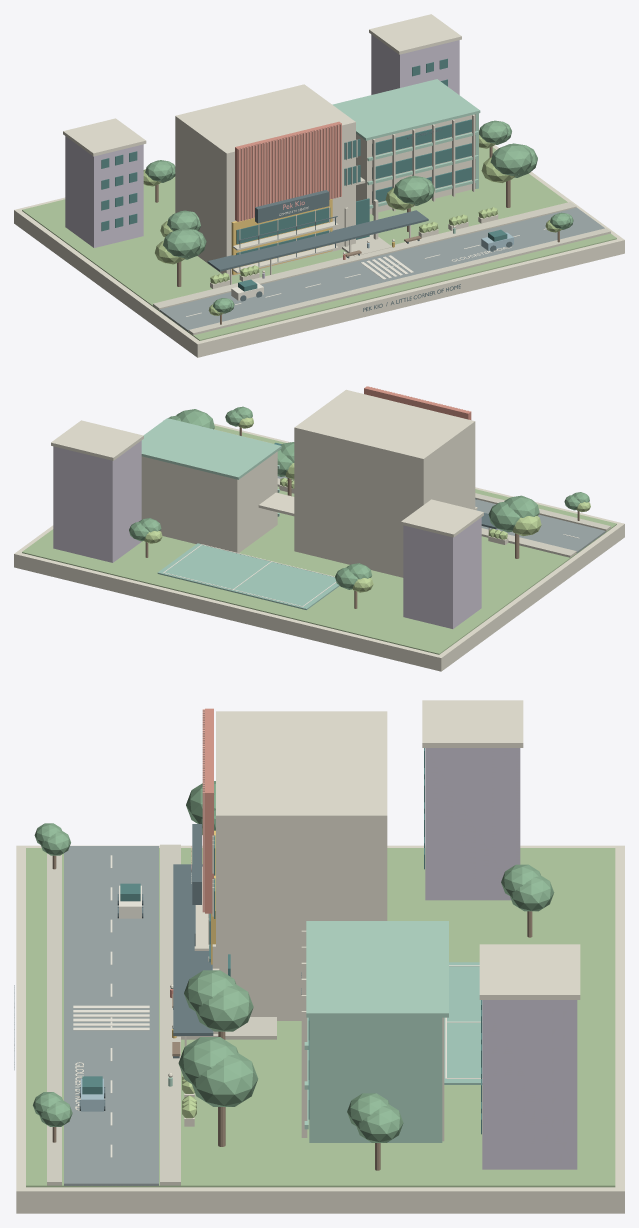
File: pek-kio-cc.glb
3 renders of one model, top to bottom at view 1: azimuth 30°, elevation 25°; view 2: azimuth 150°, elevation 25°; view 3: azimuth 270°, elevation 25°, orthographic. The views are drawn at different scales.
Visible parts, largest first — view 1: Lawn base, CC ivory volume, Rounded neighbourhood plinth, Gloucester Road, Simplified residential context, Coral facade screen, School roof, Simplified residential context.001, School east wing, CC-side footpath, Street-side footpath, Entry canopy (+16 smaller); view 2: CC ivory volume, Lawn base, Rounded neighbourhood plinth, School east wing, Simplified residential context.001, Simplified residential context, School field, School roof, Context roof.001, Gloucester Road, Context roof, Coral facade screen (+7 smaller); view 3: Lawn base, CC ivory volume, Gloucester Road, Rounded neighbourhood plinth, Simplified residential context.001, School mint corner, Simplified residential context, School roof, CC-side footpath, Context roof.001, Context roof, Street-side footpath (+14 smaller).
Part boxes in pixels (<box>): Lawn base: <box>22,147,616,340</box>; CC ivory volume: <box>175,84,355,276</box>; Rounded neighbourhood plinth: <box>14,145,624,357</box>; Gloucester Road: <box>159,207,604,331</box>; Simplified residential context: <box>65,136,143,247</box>; Coral facade screen: <box>235,121,341,221</box>; School roof: <box>332,79,480,140</box>; Simplified residential context.001: <box>371,34,459,94</box>; School east wing: <box>356,114,475,214</box>; CC-side footpath: <box>153,202,576,310</box>; Street-side footpath: <box>188,228,610,335</box>; Entry canopy: <box>207,210,428,271</box>; CC ivory volume: <box>294,389,475,577</box>; Lawn base: <box>22,425,616,654</box>; Rounded neighbourhood plinth: <box>14,423,624,671</box>; School east wing: <box>141,451,277,552</box>; Simplified residential context.001: <box>53,440,141,562</box>; Simplified residential context: <box>403,517,481,628</box>; School field: <box>157,543,339,609</box>; School roof: <box>141,418,281,479</box>; Context roof.001: <box>51,420,143,460</box>; Gloucester Road: <box>277,476,605,552</box>; Context roof: <box>401,499,483,537</box>; Coral facade screen: <box>364,386,471,419</box>; Lawn base: <box>26,848,615,1187</box>; CC ivory volume: <box>216,711,387,1020</box>; Gloucester Road: <box>64,846,158,1185</box>; Rounded neighbourhood plinth: <box>16,845,624,1213</box>; Simplified residential context.001: <box>482,1000,577,1169</box>; School mint corner: <box>309,1017,442,1142</box>; Simplified residential context: <box>425,748,520,900</box>; School roof: <box>306,921,448,1017</box>; CC-side footpath: <box>160,844,180,1185</box>; Context roof.001: <box>479,944,580,999</box>; Context roof: <box>422,700,523,747</box>; Street-side footpath: <box>47,853,61,1185</box>.
Bounding box in the file's own units: 43 × 13.8 × 32.13.
